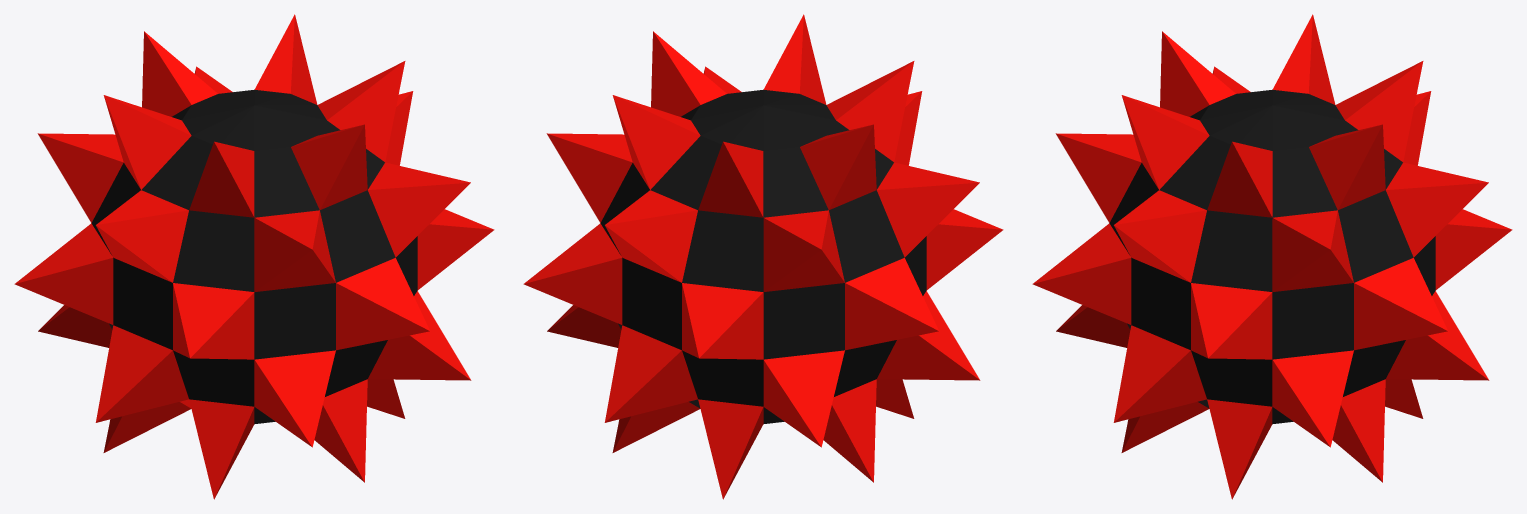
The model's file is mine.fbx.
3 views of the same model, side by side, from view 1: azimuth 30°, elevation 25°; view 2: azimuth 150°, elevation 25°; view 3: azimuth 270°, elevation 25° (orthographic).
Parts seen in each view (by area): view 1: Sphere; view 2: Sphere; view 3: Sphere.
Part boxes in pixels (box(x1,y1,x2,y2)): Sphere: box(14, 14, 494, 499); Sphere: box(523, 14, 1003, 499); Sphere: box(1032, 14, 1512, 499).
Bounding box in the file's own units: 122 × 101 × 122.
